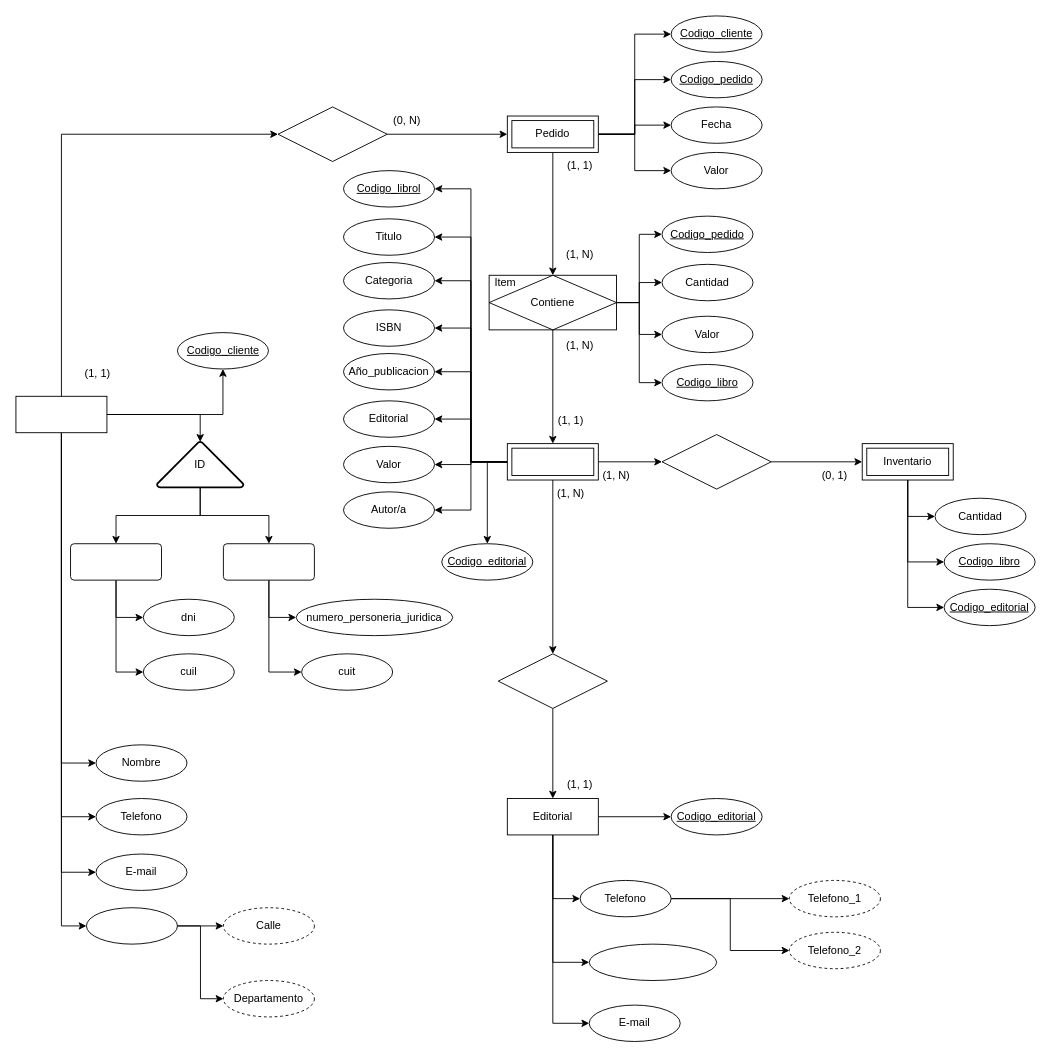
Image size: 1051x1057. Some labels were removed from this diagram. The centre of each missing label's shape, as x and y in pixels:
"Cliente" goes at (61,414).
"Compra" goes at (332,134).
"Direccion" goes at (131,925).
"Existe" goes at (716,461).
"Libro" goes at (552,461).
"Nombre_de_contacto" goes at (652,962).
"Persona_fisica" goes at (116,561).
"Persona_juridica" goes at (268,561).
"Pertenece" goes at (552,680).
